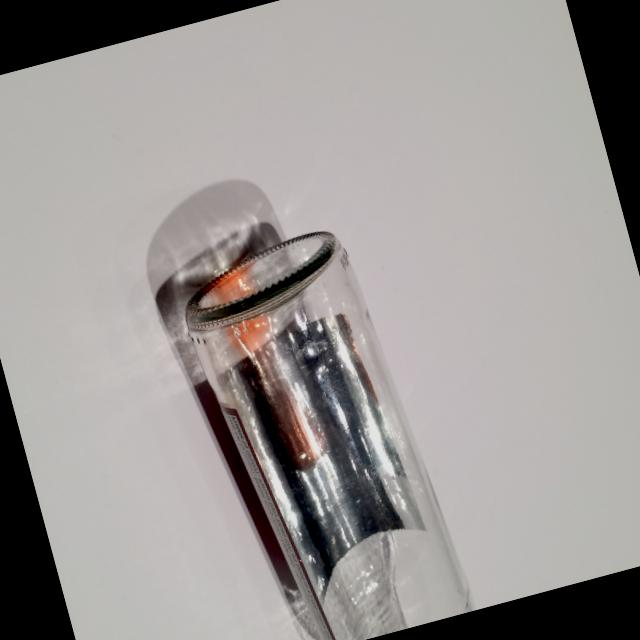Glass: (144, 207, 480, 640)
